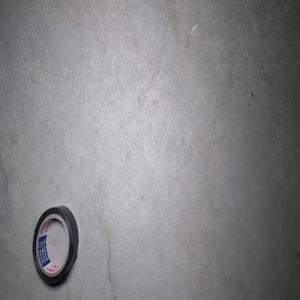Tape: (32, 205, 78, 286)
